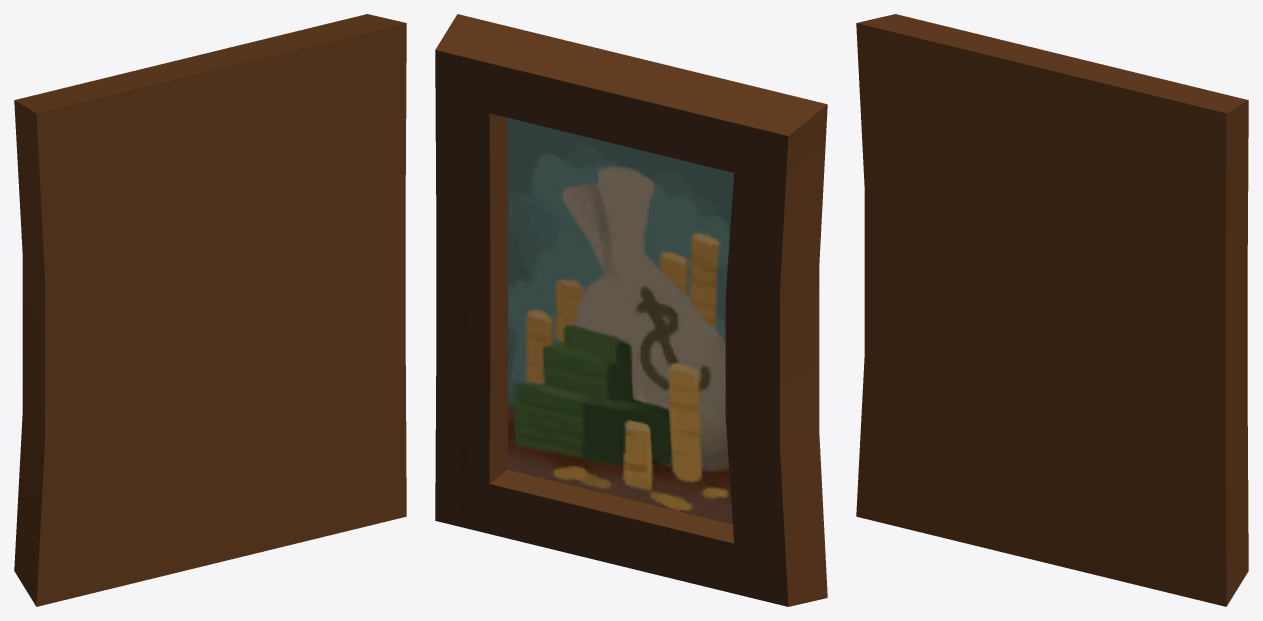
Rendered from picture.FBX.
3 views of the same model, side by side, from view 1: azimuth 30°, elevation 25°; view 2: azimuth 150°, elevation 25°; view 3: azimuth 330°, elevation 25° (orthographic).
Visible parts, largest first — view 1: Mesh_0028; view 2: Mesh_0028; view 3: Mesh_0028.
Part boxes in pixels (box(x1,y1,x2,y2)): Mesh_0028: box(14, 14, 406, 606); Mesh_0028: box(435, 14, 827, 606); Mesh_0028: box(856, 14, 1248, 606).
Bounding box in the file's own units: 230 × 294 × 33.17.
